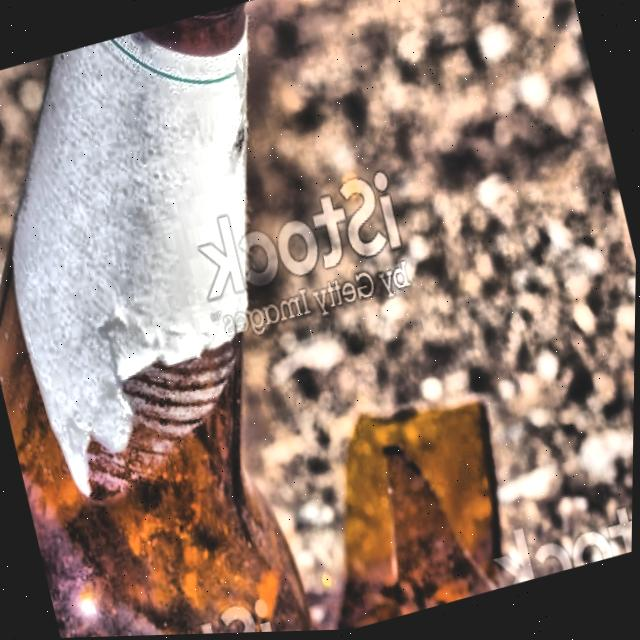glass: (0, 1, 319, 638)
